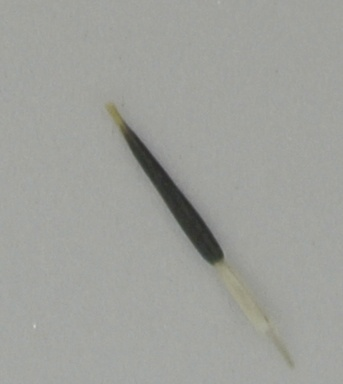เมล็ดดีเรียวยาว: (105, 100, 295, 367)
